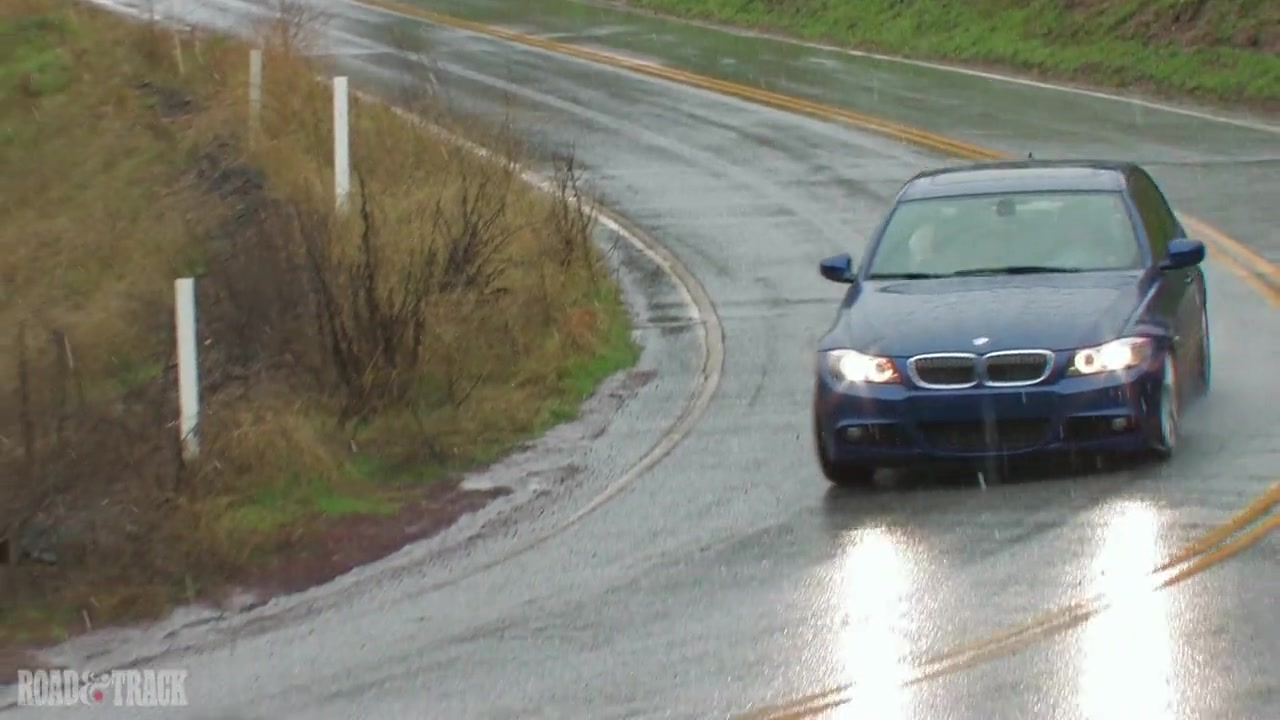car: (817, 162, 1215, 496)
